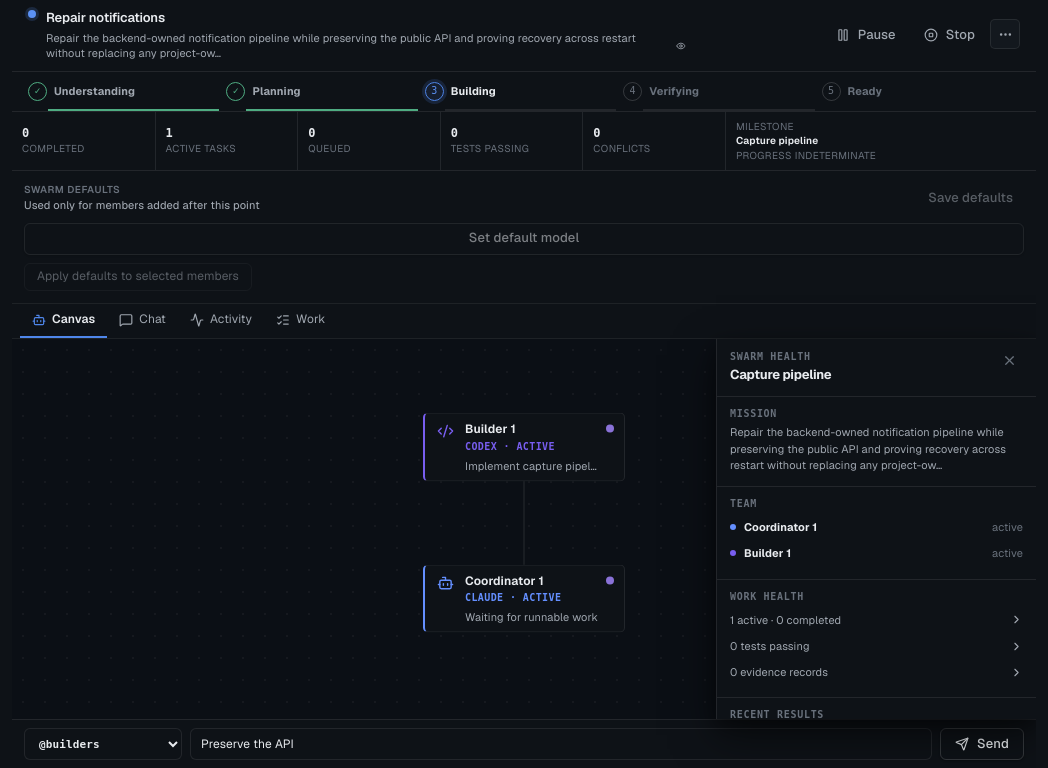
Test: SwarmOverview live backend projection › keeps routine file reads out of the meaningful activity stream
Click the button "Activity" at (221, 321), box [178,304,264,338]
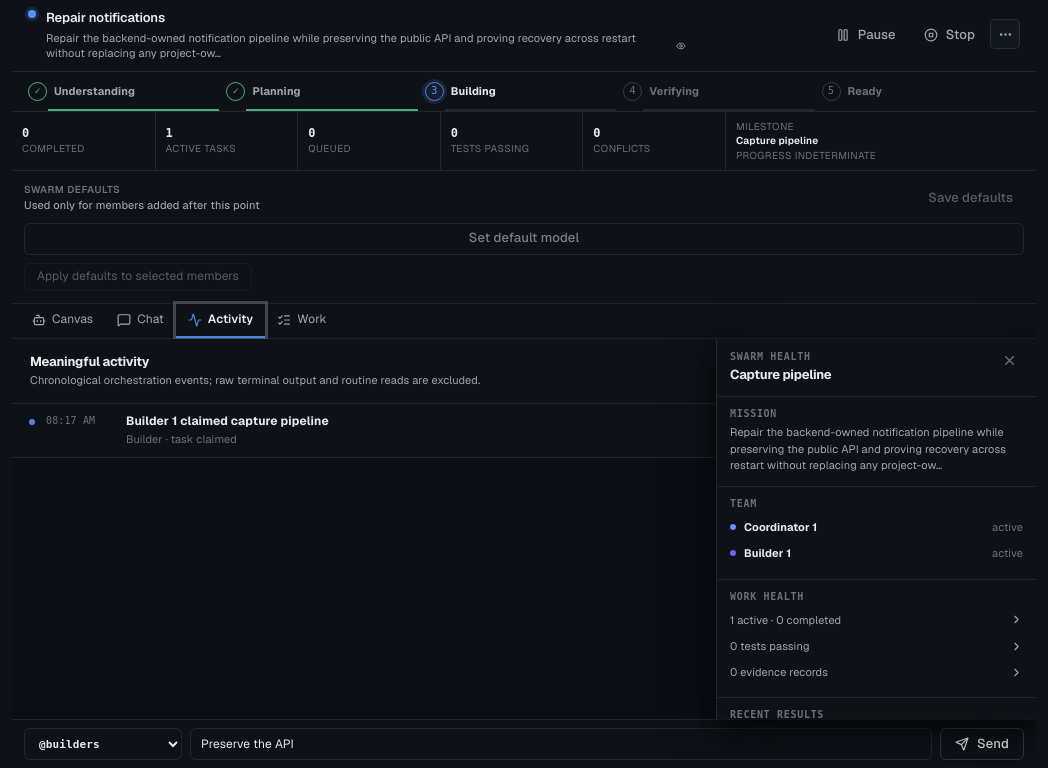
Now the text "Builder 1 claimed capture pipeline" is shown, box [126,413,329,429]
